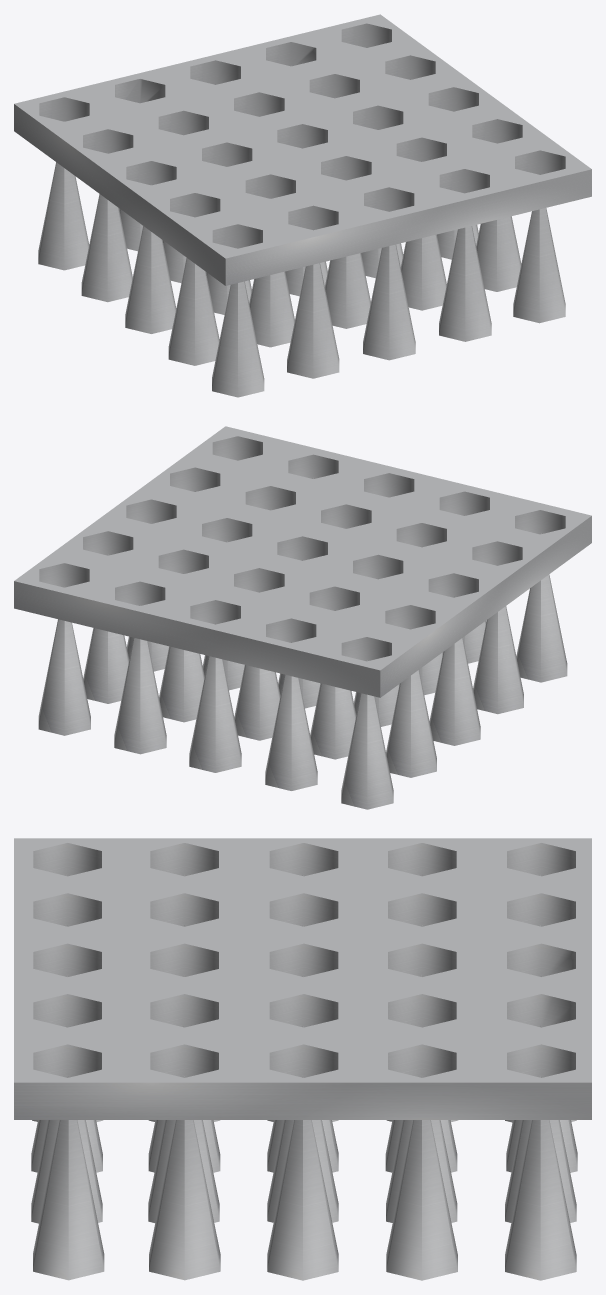
The model's file is SpikesSpikes.FBX.
3 renders of one model, top to bottom at view 1: azimuth 30°, elevation 25°; view 2: azimuth 150°, elevation 25°; view 3: azimuth 270°, elevation 25°, orthographic. The views are drawn at different scales.
Parts seen in each view (by area): view 1: Box001, Cone014, Cone015, Cone012, Cone013, Cone011, Cone016, Cone017, Cone005, Cone006, Cone008, Cone009 (+8 smaller); view 2: Box001, Cone021, Cone017, Cone019, Cone020, Cone018, Cone005, Cone015, Cone016, Cone006, Cone025, Cone022 (+8 smaller); view 3: Box001, Cone022, Cone011, Cone010, Cone021, Cone001, Cone023, Cone020, Cone002, Cone012, Cone009, Cone024 (+4 smaller).
Boxes of the visible parts, box(x1,y1,x2,y2) form: Box001: box(14, 14, 591, 285); Cone014: box(287, 263, 339, 378); Cone015: box(212, 281, 264, 397); Cone012: box(439, 193, 491, 341); Cone013: box(363, 244, 415, 360); Cone011: box(513, 174, 565, 323); Cone016: box(81, 153, 132, 302); Cone017: box(38, 121, 89, 270); Cone005: box(125, 226, 176, 333); Cone006: box(168, 216, 219, 365); Cone008: box(325, 180, 370, 328); Cone009: box(400, 161, 446, 310); Box001: box(14, 426, 591, 697); Cone021: box(38, 587, 90, 735); Cone017: box(341, 660, 393, 809); Cone019: box(189, 623, 241, 772); Cone020: box(114, 605, 166, 754); Cone018: box(265, 642, 317, 790); Cone005: box(429, 596, 480, 745); Cone015: box(516, 533, 567, 682); Cone016: box(386, 670, 436, 777); Cone006: box(473, 565, 523, 714); Cone025: box(310, 610, 356, 759); Cone022: box(83, 554, 129, 703); Box001: box(14, 838, 591, 1119); Cone022: box(386, 1077, 457, 1280); Cone011: box(33, 1076, 104, 1280); Cone010: box(149, 1076, 220, 1280); Cone021: box(505, 1076, 576, 1280); Cone001: box(267, 1077, 338, 1280); Cone023: box(386, 1026, 457, 1222); Cone020: box(505, 1026, 576, 1222); Cone002: box(267, 1026, 338, 1222); Cone012: box(31, 1120, 102, 1223); Cone009: box(148, 1026, 219, 1222); Cone024: box(385, 975, 457, 1172).
Bounding box in the file's own units: 140 × 54.01 × 140.
1 material, 1 textured.
